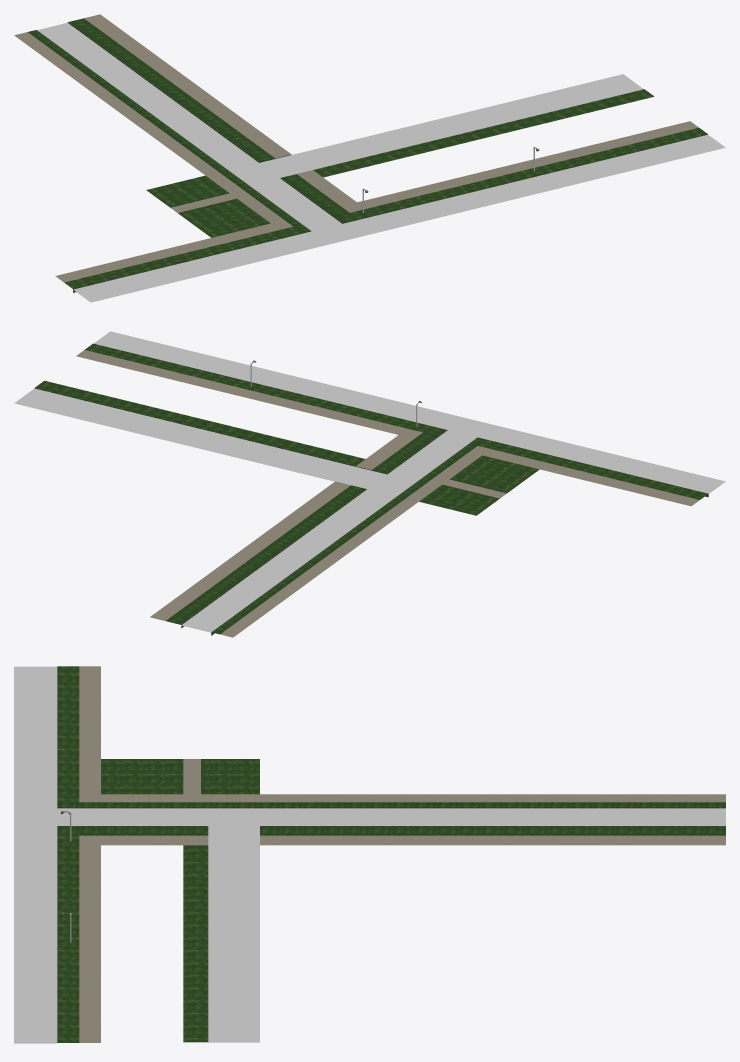
File: enviroment.DAE
The picture shows the model from 3 angles, top to bottom: view 1: azimuth 30°, elevation 25°; view 2: azimuth 150°, elevation 25°; view 3: azimuth 270°, elevation 25°; orthographic projection. The views are drawn at different scales.
Parts seen in each view (by area): view 1: Plane01, sidewalk, road; view 2: Plane01, sidewalk, road; view 3: Plane01, sidewalk, road.
Part boxes in pixels (left/top/right/bottom): Plane01: left=37, top=23, right=725, bottom=302; sidewalk: left=28, top=18, right=707, bottom=292; road: left=14, top=14, right=698, bottom=282; Plane01: left=14, top=331, right=725, bottom=632; sidewalk: left=35, top=343, right=708, bottom=635; road: left=76, top=350, right=699, bottom=637; Plane01: left=14, top=666, right=725, bottom=1043; sidewalk: left=57, top=666, right=725, bottom=1042; road: left=79, top=666, right=725, bottom=1042.
Size of the model in its own units: 4720 by 3768 by 205.
